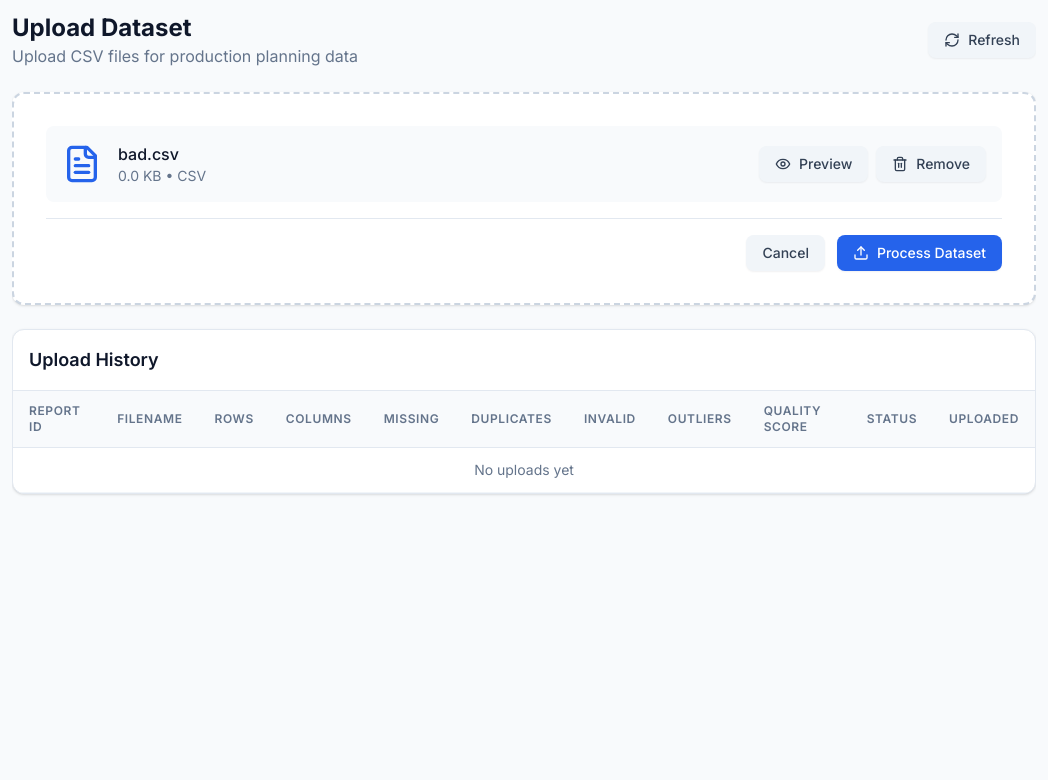
B4 upload error is cleared › drops the old error after Cancel and a new file
Earlier steps of the test are not shown.
Later steps or results of the test are not shown.
Click the button "Process Dataset": click(919, 253) [837, 235, 1002, 271]
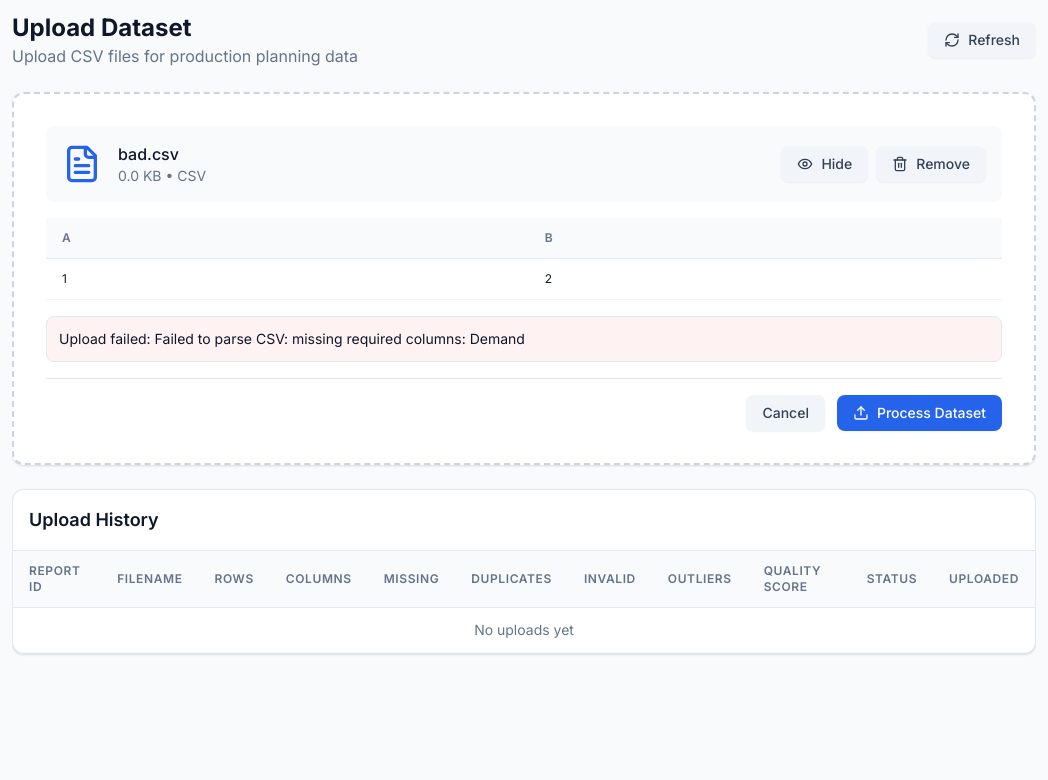
Check: the message shows "missing required columns: Demand", box [155, 330, 525, 347]
